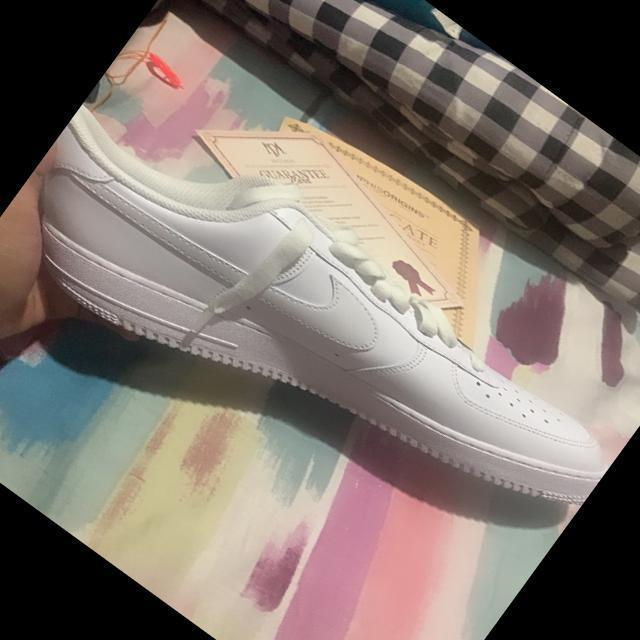nike original air force: (0, 60, 631, 615)
